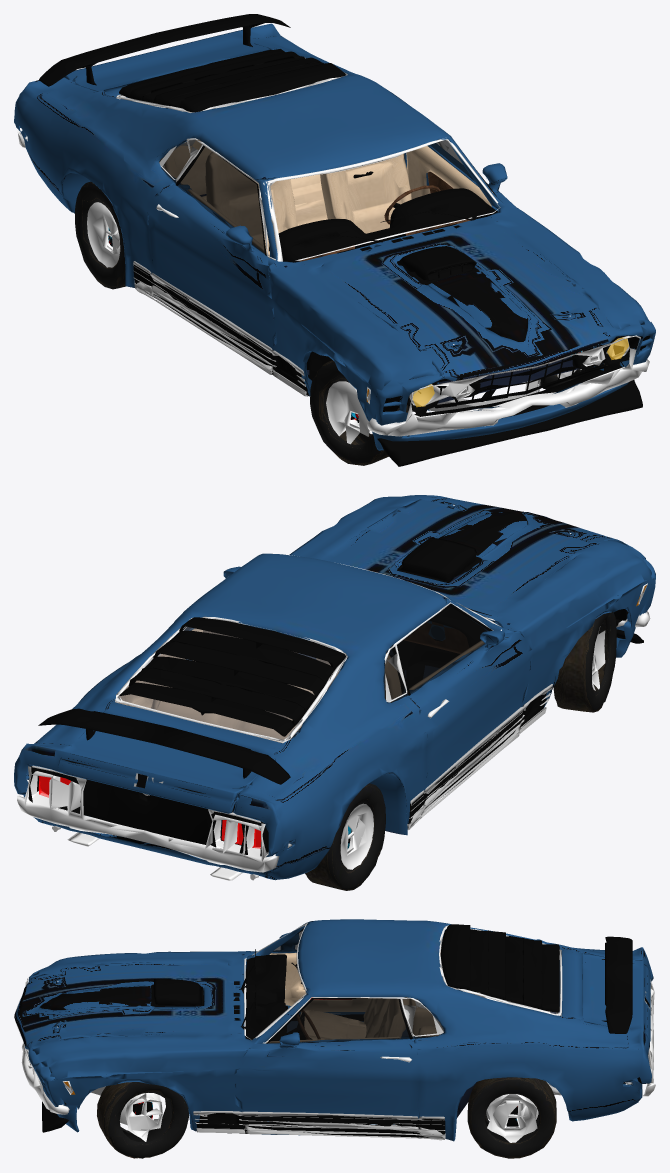
Rendered from mach1.glb.
The picture shows the model from 3 angles, top to bottom: view 1: azimuth 30°, elevation 25°; view 2: azimuth 150°, elevation 25°; view 3: azimuth 270°, elevation 25°; orthographic projection. The views are drawn at different scales.
Visible parts, largest first — view 1: car_q; view 2: car_q; view 3: car_q.
Part boxes in pixels (x1,y1,x2,y2): car_q: (14, 14, 655, 466); car_q: (14, 495, 655, 890); car_q: (14, 919, 655, 1158).
Bounding box in the file's own units: 1.96 × 1.31 × 4.76.
Materials: 17 (9 with a texture image).
